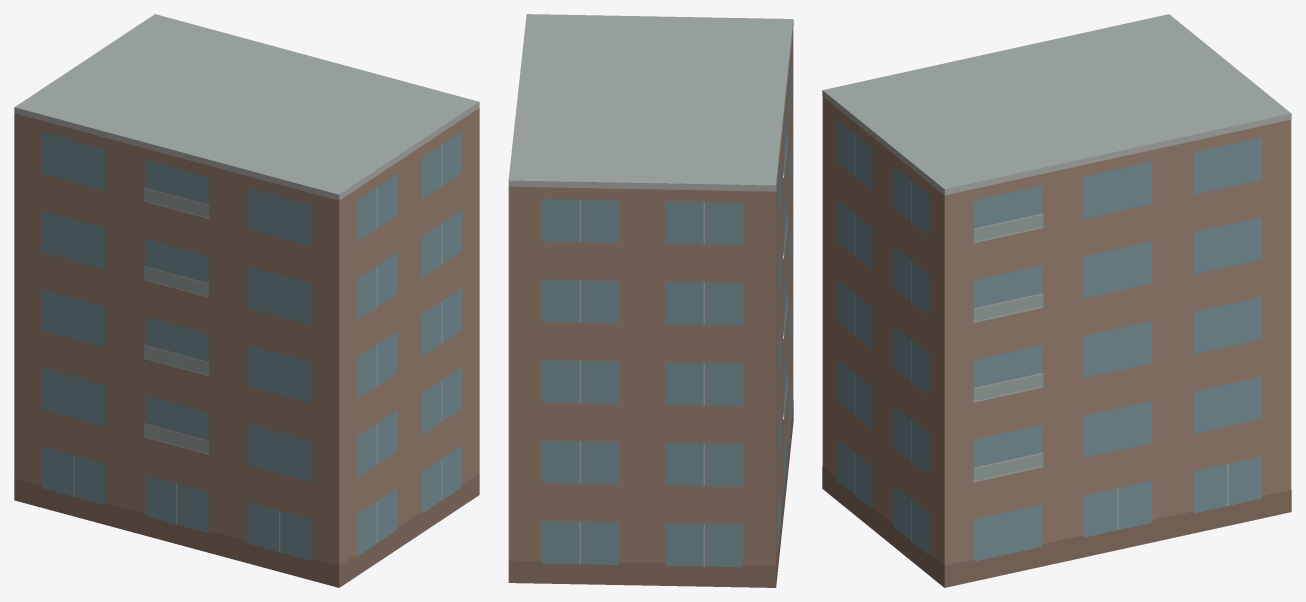
The model's file is survey-upis-32885997.glb.
The picture shows the model from 3 angles, left to right: view 1: azimuth 30°, elevation 25°; view 2: azimuth 150°, elevation 25°; view 3: azimuth 270°, elevation 25°; orthographic projection. The views are drawn at different scales.
Parts seen in each view (by area): view 1: survey-upis-32885997.tmp; view 2: survey-upis-32885997.tmp; view 3: survey-upis-32885997.tmp.
Part boxes in pixels (<box>): survey-upis-32885997.tmp: <box>14,14,479,587</box>; survey-upis-32885997.tmp: <box>508,14,793,587</box>; survey-upis-32885997.tmp: <box>822,14,1291,587</box>.
Size of the model in its own units: 15.01 by 15.9 by 16.96.
